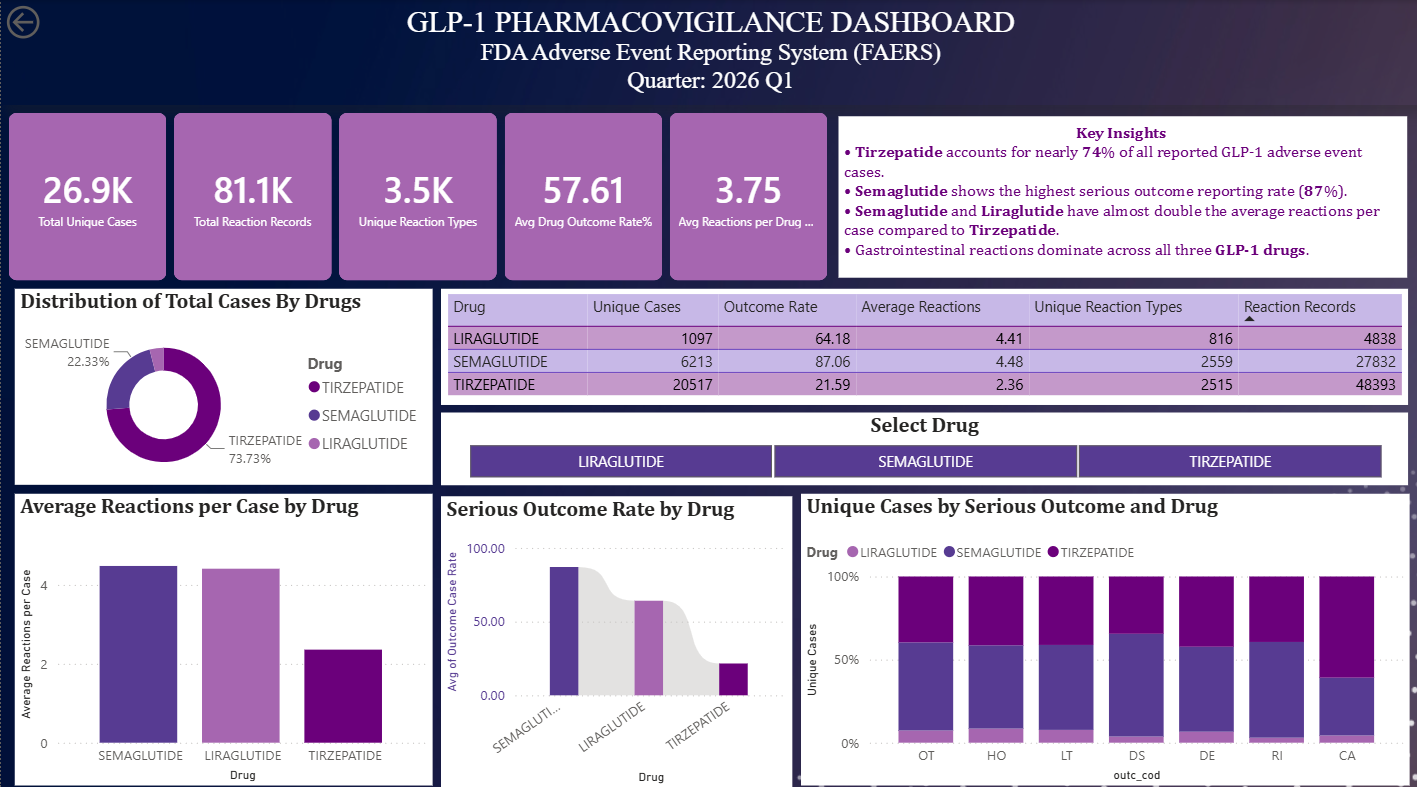

This screenshot's page, from the dashboard's own definition file:
{"tool":"powerbi","page":{"name":"Executive Overview","canvas":[1280,720],"ordinal":0},"visuals":[{"type":"textbox","box":[0,0,1280,94.3],"z":0},{"type":"cardVisual","fields":{"Data":["overall_summary.Total Unique Cases","Sum(drug_summary.total_reaction_records)","overall_summary.UniqueReactionTypes","Avg(drug_summary.outcome_case_rate)","Avg(drug_summary.avg_reactions_per_case)"]},"box":[0,94.3,755.7,165.7],"z":1000},{"type":"slicer","title":"Select Drug","fields":{"Values":["drug_summary.glp1_drug"]},"box":[397.3,371.4,872.1,65.3],"z":2000},{"type":"donutChart","title":"Distribution of Total Cases By Drugs","fields":{"Y":["Sum(drug_summary.unique_cases)"],"Category":["drug_summary.glp1_drug"]},"box":[12.2,259.9,376.9,176.9],"z":3000},{"type":"clusteredColumnChart","title":"Average Reactions per Case by Drug","fields":{"Y":["Avg(drug_summary.avg_reactions_per_case)"],"Category":["drug_summary.glp1_drug"]},"box":[12.9,445.7,377.1,264.3],"z":4000},{"type":"ribbonChart","title":"Serious Outcome Rate by Drug","fields":{"Category":["drug_summary.glp1_drug"],"Y":["Avg(drug_summary.outcome_case_rate)"]},"box":[397.1,447.1,317.1,264.3],"z":5000},{"type":"tableEx","fields":{"Values":["drug_summary.glp1_drug","drug_summary.unique_cases","drug_summary.outcome_case_rate","drug_summary.avg_reactions_per_case","drug_summary.unique_reaction_types","drug_summary.total_reaction_records"]},"box":[397.3,259.9,872.1,104.8],"z":6000},{"type":"actionButton","box":[0,0,100,40],"z":7000},{"type":"hundredPercentStackedColumnChart","title":"Unique Cases by Serious Outcome and Drug","fields":{"Category":["outcome_summary.outc_cod"],"Y":["Sum(outcome_summary.unique_cases)"],"Series":["outcome_summary.glp1_drug"]},"box":[721.4,445.7,548.6,264.3],"z":9000},{"type":"textbox","box":[755.7,104.3,512.9,145.7],"z":10000}]}

Visuals, with their boxes in screenshot pixels (x1, y1, x2, y2), scaled from the page's 1280x720 canvas onto the 1417x787 screenshot:
textbox: pyautogui.locateOnScreen(0, 0, 1416, 103)
cardVisual - overall_summary.Total Unique Cases x Sum(drug_summary.total_reaction_records): pyautogui.locateOnScreen(0, 103, 837, 284)
"Select Drug" slicer: pyautogui.locateOnScreen(440, 406, 1405, 477)
"Distribution of Total Cases By Drugs" donutChart: pyautogui.locateOnScreen(14, 284, 431, 477)
"Average Reactions per Case by Drug" clusteredColumnChart: pyautogui.locateOnScreen(14, 487, 432, 776)
"Serious Outcome Rate by Drug" ribbonChart: pyautogui.locateOnScreen(440, 489, 791, 778)
tableEx - drug_summary.glp1_drug x drug_summary.unique_cases: pyautogui.locateOnScreen(440, 284, 1405, 399)
actionButton: pyautogui.locateOnScreen(0, 0, 111, 44)
"Unique Cases by Serious Outcome and Drug" hundredPercentStackedColumnChart: pyautogui.locateOnScreen(799, 487, 1406, 776)
textbox: pyautogui.locateOnScreen(837, 114, 1404, 273)
